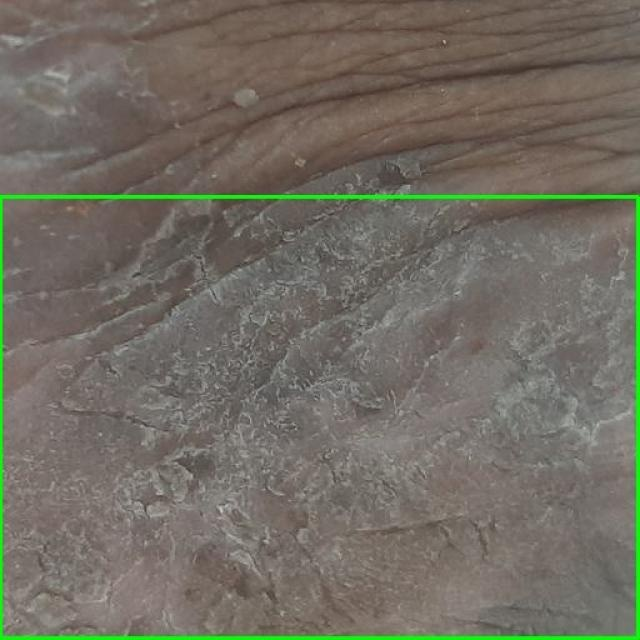Eczema: (0, 198, 639, 639)
